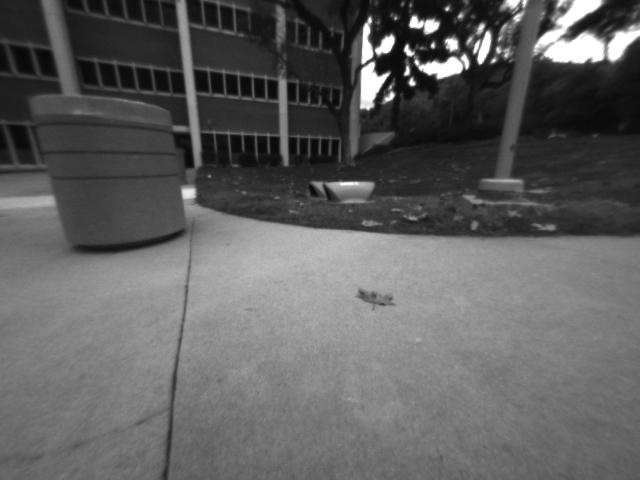trashcan: (23, 95, 192, 265)
